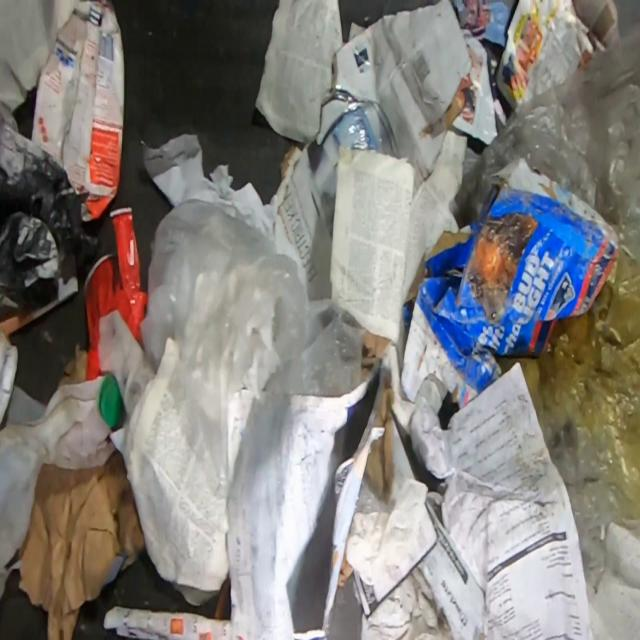cardboard: (276, 0, 473, 299), (400, 157, 619, 411), (31, 0, 126, 225)
rigid_plastic: (84, 207, 149, 384)
soft_plastic: (446, 22, 640, 608), (140, 197, 363, 489), (0, 112, 103, 323), (352, 470, 392, 520)
